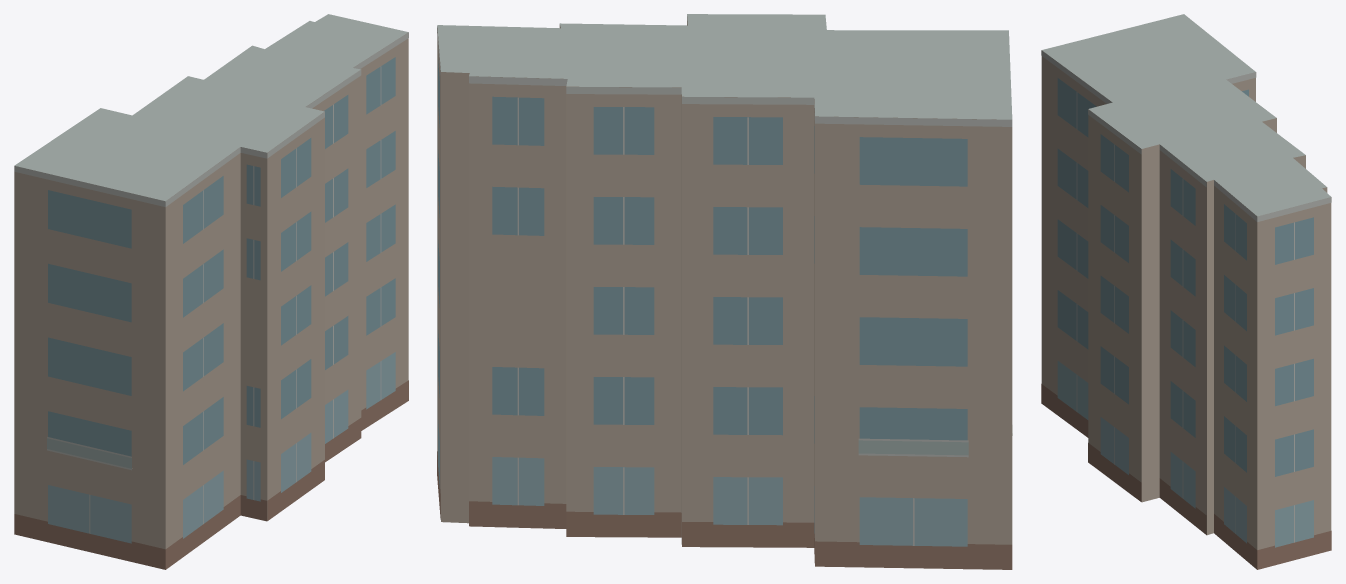
The model's file is survey-upis-32907429.glb.
The picture shows the model from 3 angles, left to right: view 1: azimuth 30°, elevation 25°; view 2: azimuth 150°, elevation 25°; view 3: azimuth 270°, elevation 25°; orthographic projection. The views are drawn at different scales.
Parts seen in each view (by area): view 1: survey-upis-32907429.tmp; view 2: survey-upis-32907429.tmp; view 3: survey-upis-32907429.tmp.
Part boxes in pixels (x1,y1,x2,y2): survey-upis-32907429.tmp: [14, 14, 408, 569]; survey-upis-32907429.tmp: [437, 14, 1012, 569]; survey-upis-32907429.tmp: [1041, 14, 1331, 569].
Bounding box in the file's own units: 18.56 × 15.1 × 11.23.
